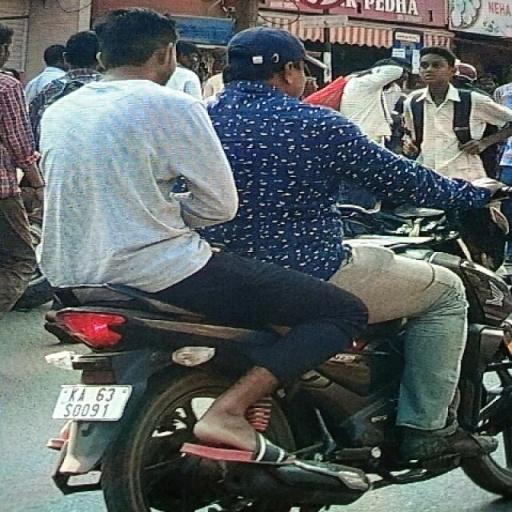bike: (33, 1, 512, 510)
numberplate: (52, 376, 130, 426)
withouthelmet: (98, 8, 175, 78), (230, 26, 302, 88)
